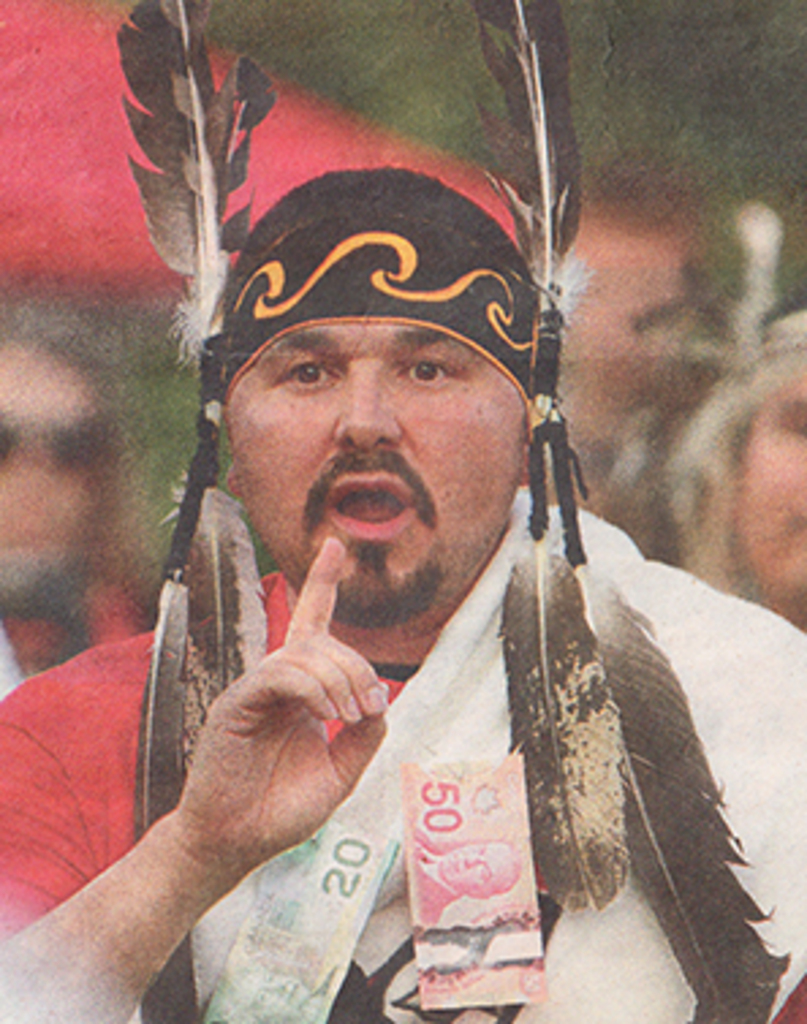face: (0, 321, 89, 618)
